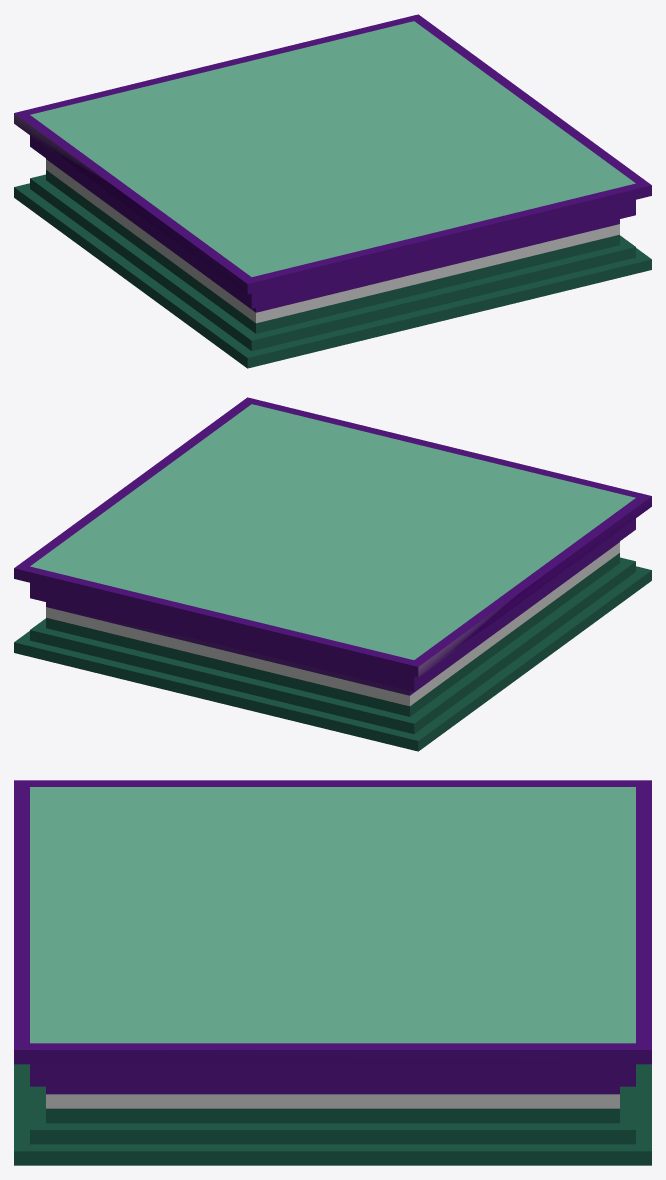
The model's file is building_top_topHats.glb.
The picture shows the model from 3 angles, top to bottom: view 1: azimuth 30°, elevation 25°; view 2: azimuth 150°, elevation 25°; view 3: azimuth 270°, elevation 25°; orthographic projection. The views are drawn at different scales.
Visible parts, largest first — view 1: ObjObject; view 2: ObjObject; view 3: ObjObject.
Part boxes in pixels (box(x1,y1,x2,y2)): ObjObject: box(14, 14, 651, 368); ObjObject: box(14, 397, 651, 751); ObjObject: box(14, 780, 651, 1165).
Bounding box in the file's own units: 4 × 0.8 × 4.
1 material, 1 textured.
